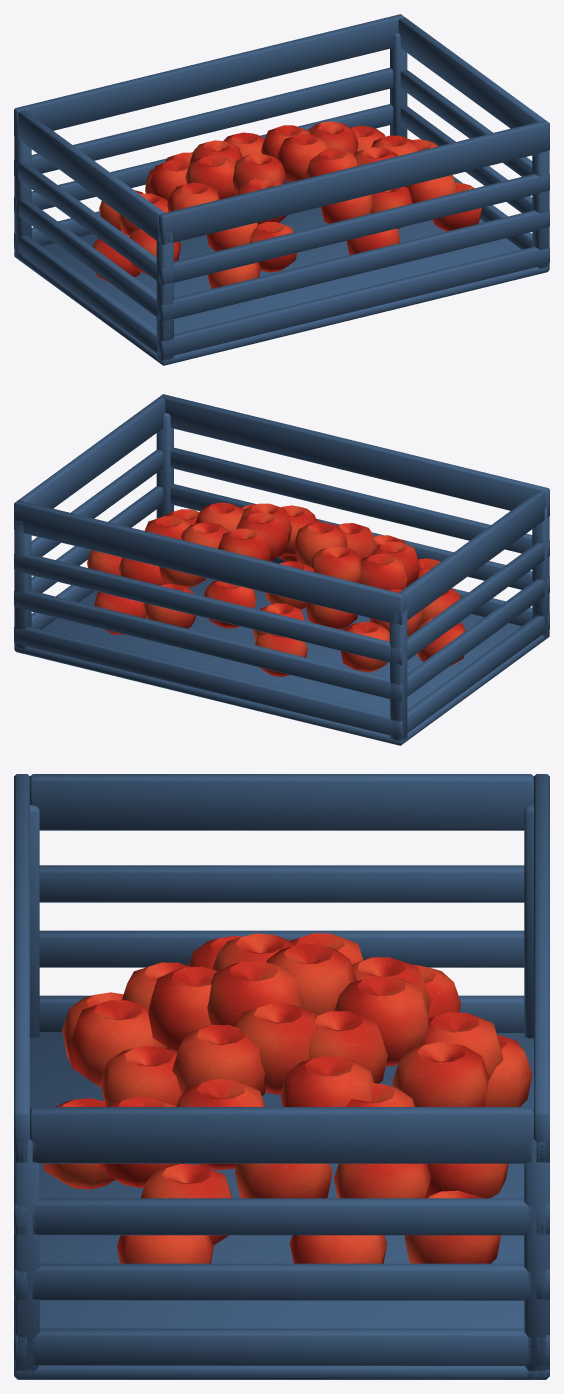
File: harvest_crate_tomatoes.glb
3 renders of one model, top to bottom at view 1: azimuth 30°, elevation 25°; view 2: azimuth 150°, elevation 25°; view 3: azimuth 270°, elevation 25°, orthographic. The views are drawn at different scales.
Visible parts, largest first — view 1: harvest_crate_tomatoes; view 2: harvest_crate_tomatoes; view 3: harvest_crate_tomatoes.
Boxes of the visible parts, x1,y1,x2,y2 form: harvest_crate_tomatoes: [14, 14, 549, 365]; harvest_crate_tomatoes: [14, 394, 549, 745]; harvest_crate_tomatoes: [14, 774, 549, 1379].
Bounding box in the file's own units: 0.6 × 0.2215 × 0.4.
Materials: 3 (1 with a texture image).
